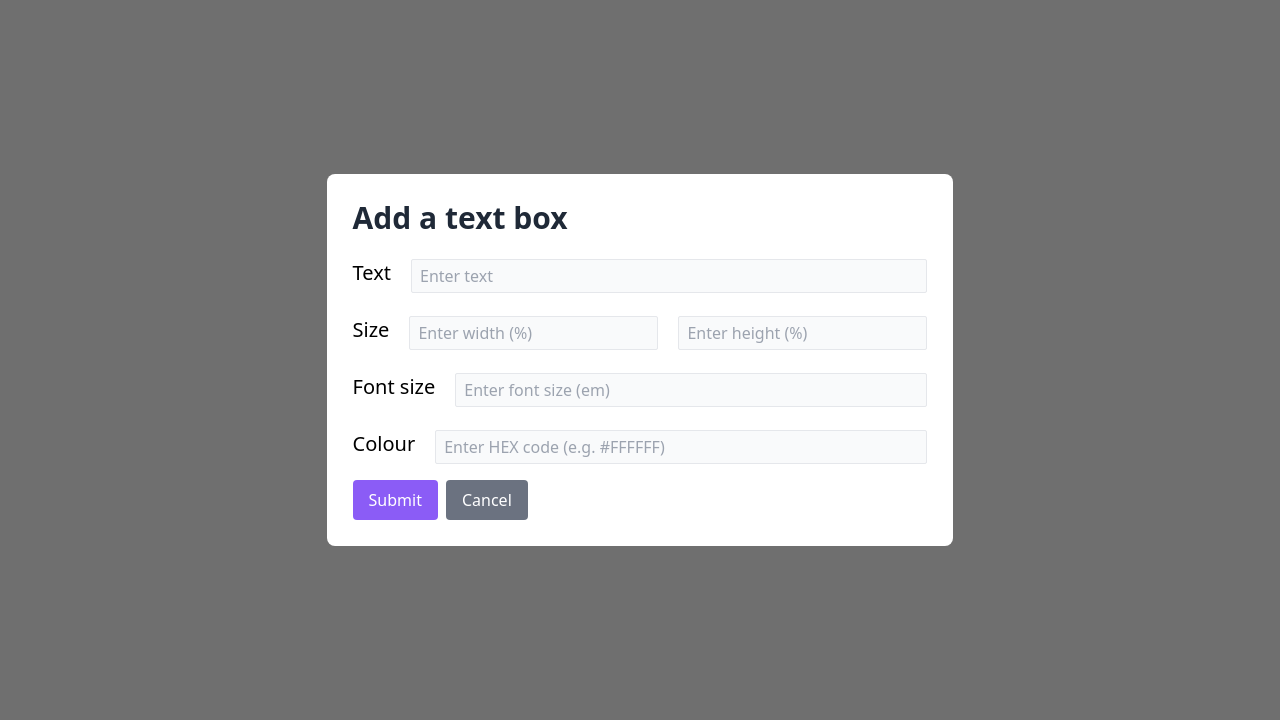
Scenario: TextCreateModal › displays an error when submitting with invalid height
Type "Test Text" into the field with placeholder "Enter text".
click(669, 276); type("Test Text")  # box [411,259,927,293]
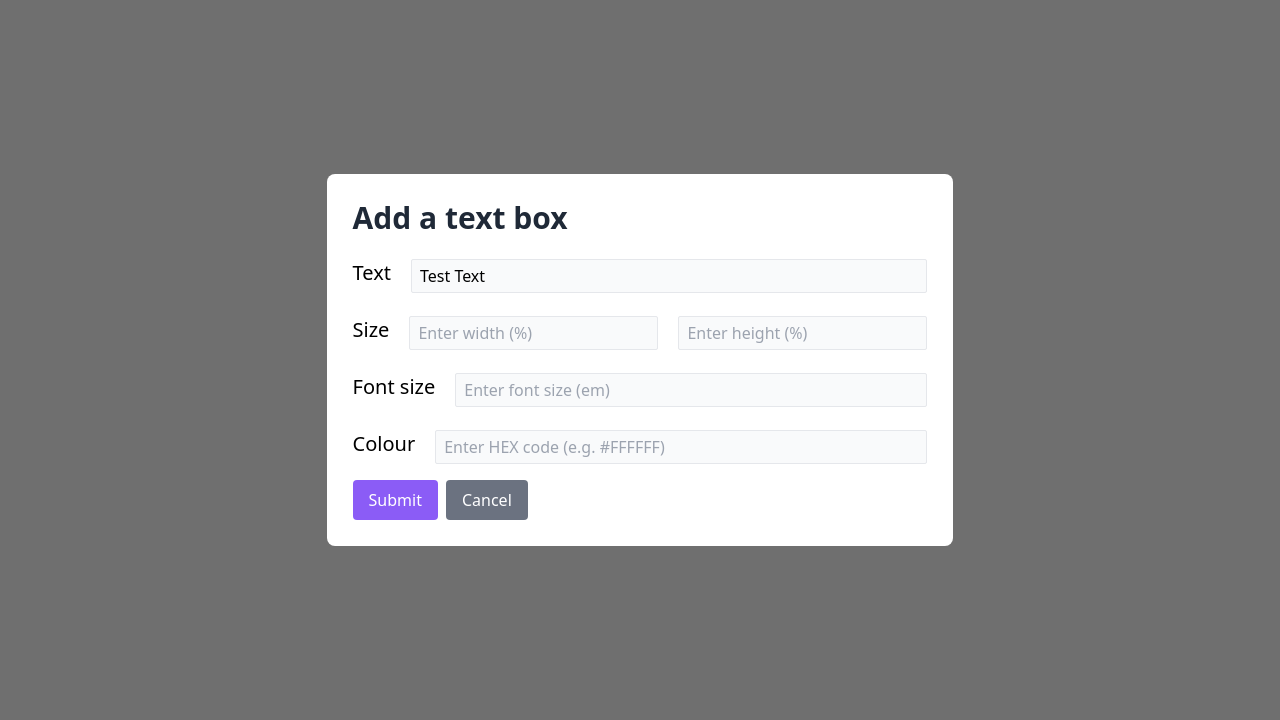
Type "50" into the field with placeholder "Enter width (%)".
click(534, 333); type("50")  # box [409,316,658,350]
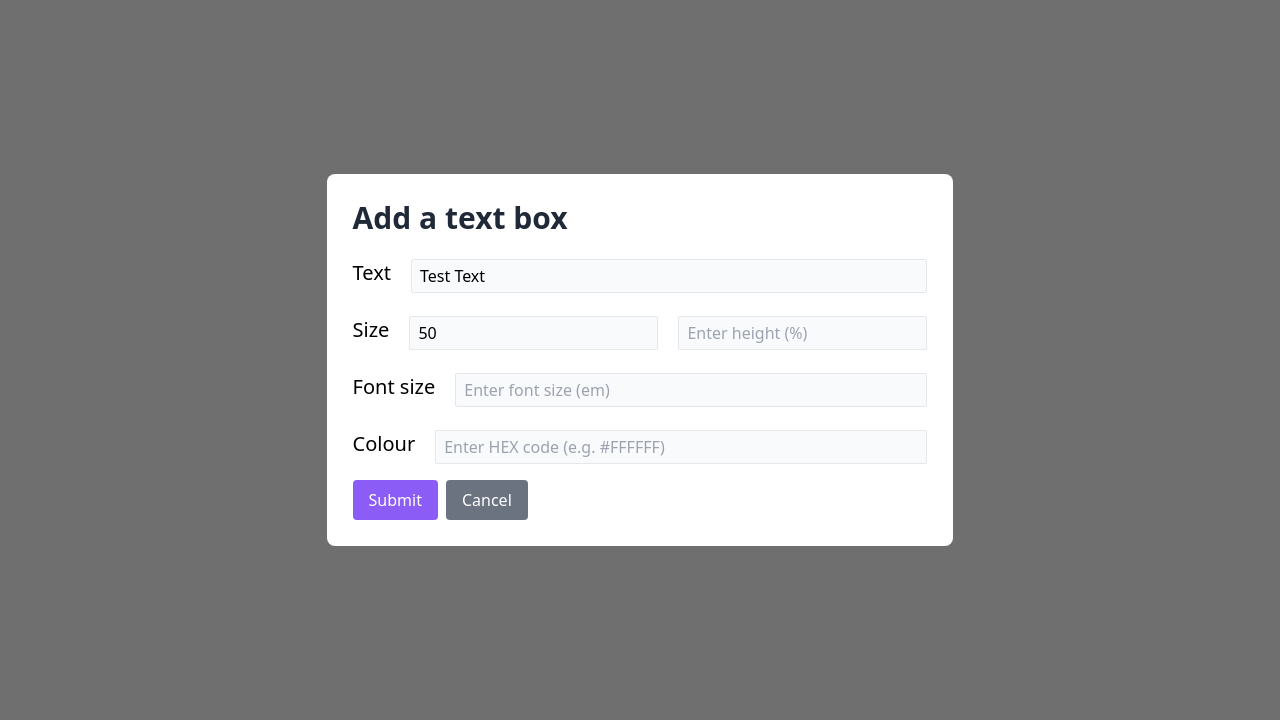
Type "-1" into the field with placeholder "Enter height (%)".
click(803, 333); type("-1")  # box [678,316,927,350]
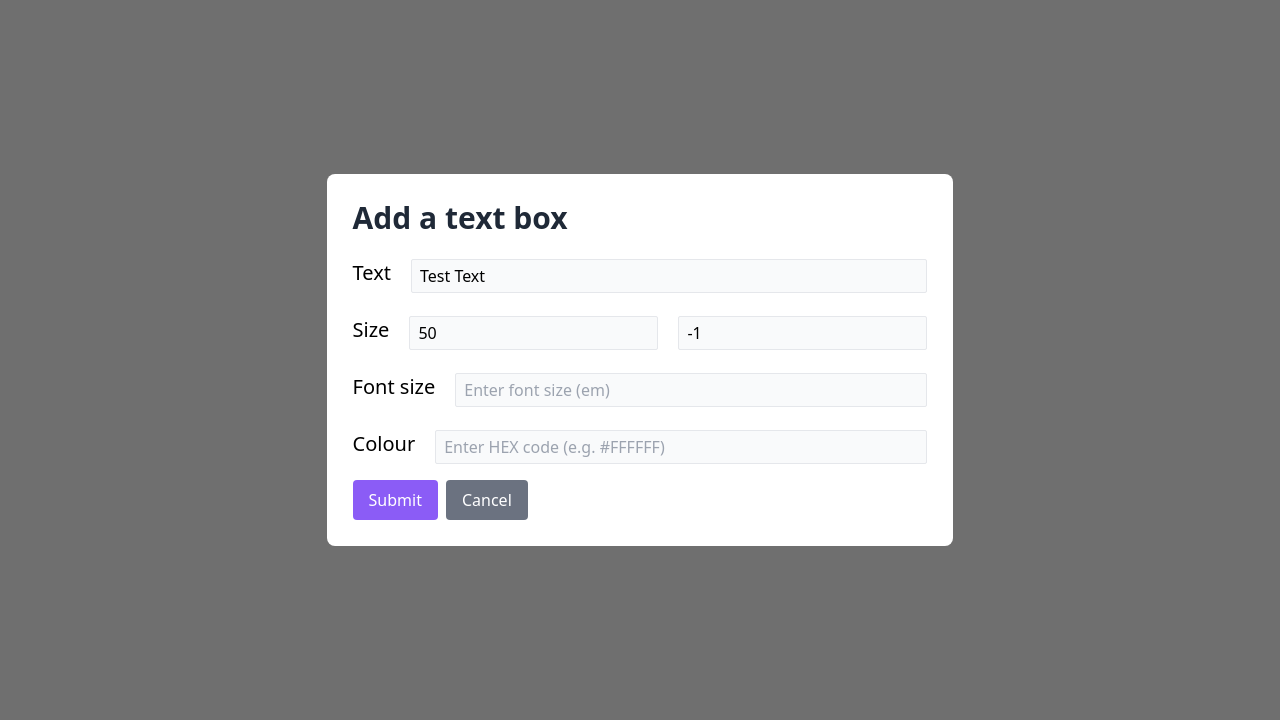
Click the button "Submit".
click(395, 500)  # box [353,480,438,520]
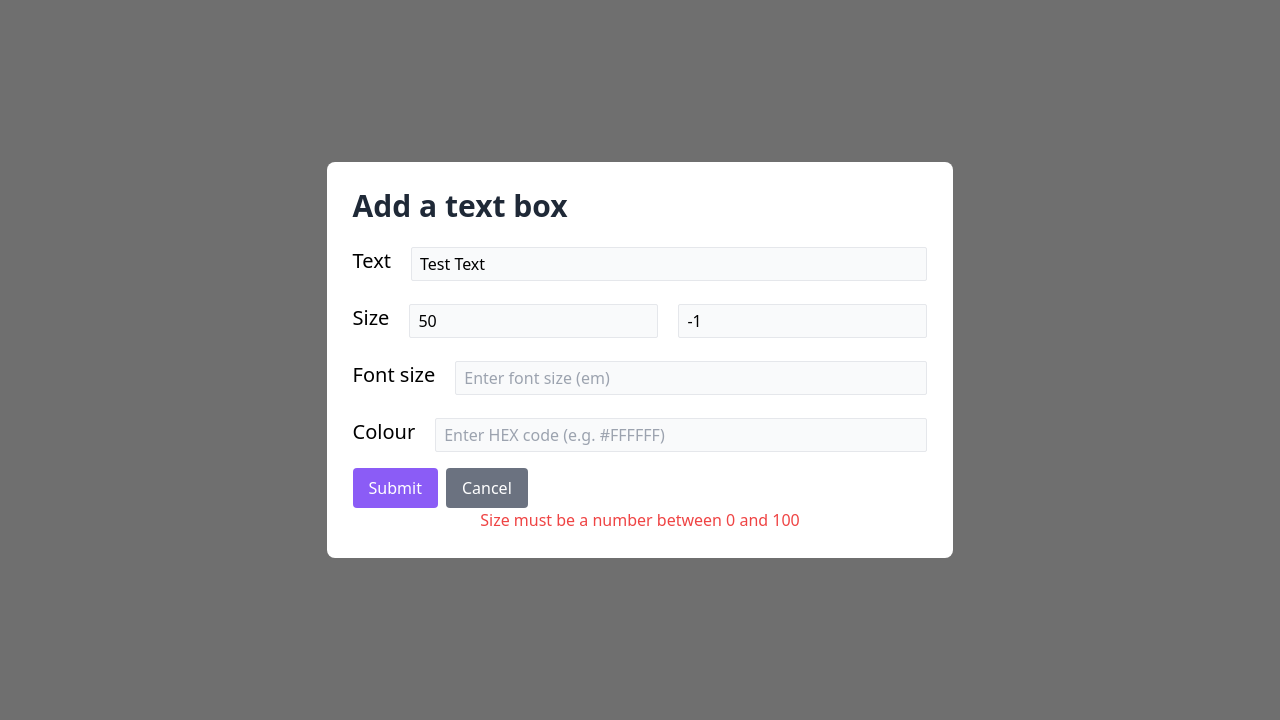
Now the text "Size must be a number between 0 and 100" is shown, box [480,508,800,532]
